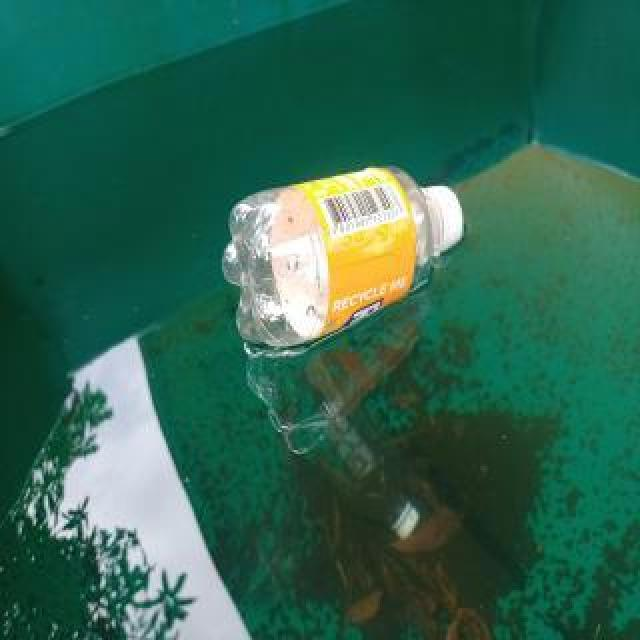bottle: (222, 161, 466, 351)
